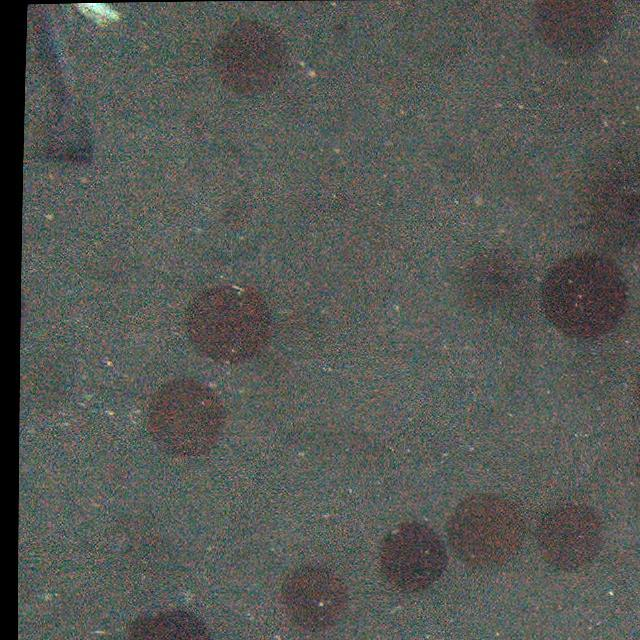roundfish: (26, 5, 136, 167)
